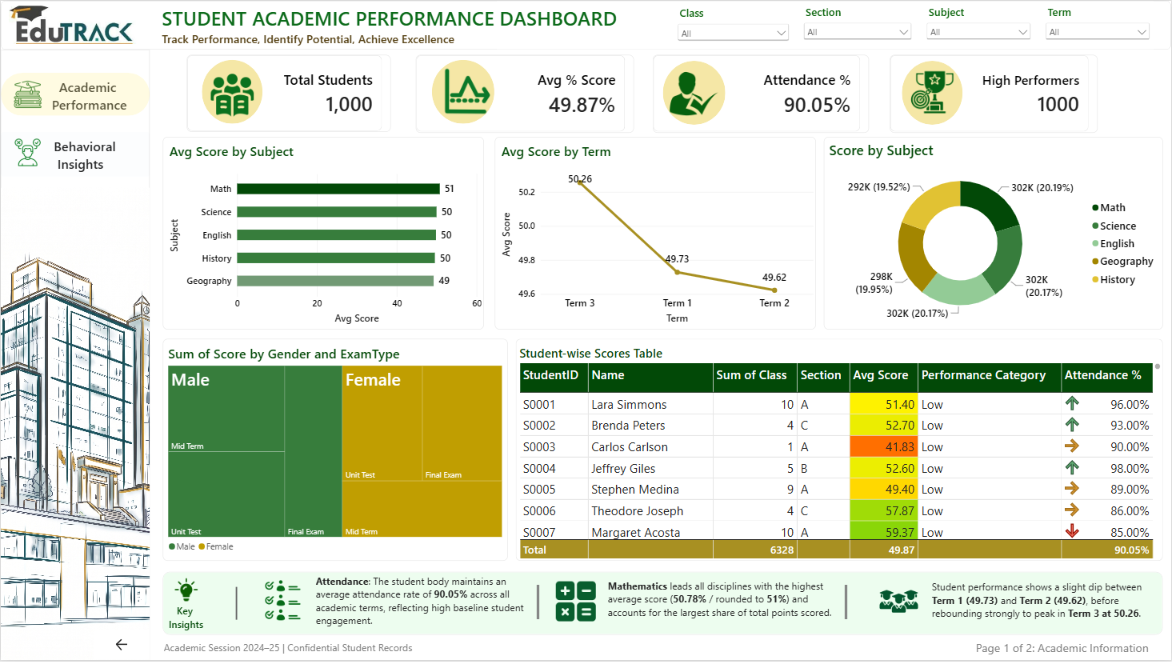

What the dashboard file says about the page in this screenshot:
{"tool":"powerbi","page":{"name":"Academic_Information","canvas":[1920,1080],"ordinal":0},"visuals":[{"type":"group","id":"g1","title":"base","box":[0,0,1919.7,1080.3],"z":0},{"type":"slicer","fields":{"Values":["Students.Class"]},"box":[1104.5,7.6,192.4,62.1],"z":0,"group":"g5"},{"type":"image","box":[13.6,8.4,209.1,62.1],"z":0,"group":"g9"},{"type":"shape","box":[0,80.3,243.9,1000],"z":0,"group":"g17"},{"type":"group","id":"g2","title":"KPI 1","box":[304.9,88.5,334.4,126.2],"z":0,"group":"g13"},{"type":"cardVisual","fields":{"Data":["Measure Table.Total Students"]},"box":[304.9,88.5,334.4,126.2],"z":0,"group":"g2"},{"type":"cardVisual","fields":{"Data":["Measure Table.Avg % Score"]},"box":[680.3,88.5,357.4,127.9],"z":0,"group":"g6"},{"type":"cardVisual","fields":{"Data":["Measure Table.Attendance %"]},"box":[1068.8,88.5,354.1,127.9],"z":0,"group":"g10"},{"type":"cardVisual","fields":{"Data":["Measure Table.High Performers"]},"box":[1457.4,88.5,341,127.9],"z":0,"group":"g14"},{"type":"group","id":"g3","title":"Group 1","box":[21.2,125.8,201.5,57.6],"z":0,"group":"g11"},{"type":"image","box":[21.2,125.8,45.5,54.5],"z":0,"group":"g3"},{"type":"image","box":[21.2,221.3,45.5,54.5],"z":0,"group":"g7"},{"type":"group","id":"g4","title":"Group 2","box":[429.5,939.4,465.6,91.8],"z":0,"group":"g16"},{"type":"image","box":[285.2,942.6,37.7,45.9],"z":0,"group":"g15"},{"type":"image","box":[429.5,949.2,65.6,67.2],"z":0,"group":"g4"},{"type":"image","box":[909.8,949.8,65.6,67.2],"z":0,"group":"g8"},{"type":"image","box":[1439.3,950.8,65.6,67.2],"z":0,"group":"g12"},{"type":"actionButton","box":[0,1027.9,83.6,52.5],"z":0,"group":"g1"},{"type":"shape","box":[0,0,1919.7,80.3],"z":1000,"group":"g1"},{"type":"textbox","box":[265.1,6.1,772.7,56.1],"z":1000,"group":"g9"},{"type":"group","id":"g5","title":"slicer","box":[1104.5,6.1,783.3,63.6],"z":1000},{"type":"slicer","fields":{"Values":["Students.Section"]},"box":[1311.6,6.1,186.4,62.1],"z":1000,"group":"g5"},{"type":"group","id":"g6","title":"KPI 2","box":[680.3,88.5,357.4,127.9],"z":1000,"group":"g13"},{"type":"shape","box":[707.2,96.7,102.8,104.9],"z":1000,"group":"g6"},{"type":"shape","box":[329.6,97.5,99.7,104.9],"z":1000,"group":"g2"},{"type":"shape","box":[1084.6,98.3,102.8,104.9],"z":1000,"group":"g10"},{"type":"shape","box":[1476.8,99.1,99.8,104.9],"z":1000,"group":"g14"},{"type":"textbox","box":[83.3,125.8,139.4,57.6],"z":1000,"group":"g3"},{"type":"group","id":"g7","title":"Group 1","box":[21.2,221.3,204.5,95.5],"z":1000,"group":"g11"},{"type":"textbox","box":[86.7,223.6,139.4,93.9],"z":1000,"group":"g7"},{"type":"image","title":"pic","box":[0,306.1,243.9,774.2],"z":1000,"group":"g17"},{"type":"group","id":"g8","title":"Group 2","box":[909.8,938.8,490.4,102],"z":1000,"group":"g16"},{"type":"textbox","box":[516.4,939.4,372.1,86.9],"z":1000,"group":"g4"},{"type":"textbox","box":[995.3,947.4,370.5,93.4],"z":1000,"group":"g8"},{"type":"textbox","box":[1525.6,949.2,372.1,86.9],"z":1000,"group":"g12"},{"type":"textbox","box":[275.4,988.5,85.2,50.8],"z":1000,"group":"g15"},{"type":"group","id":"g9","title":"header section","box":[13.6,6.1,1024.2,74.2],"z":2000},{"type":"slicer","fields":{"Values":["Scores.Subject"]},"box":[1512.6,6.1,180.3,62.1],"z":2000,"group":"g5"},{"type":"textbox","box":[265.1,48.5,525.8,31.8],"z":2000,"group":"g9"},{"type":"group","id":"g10","title":"KPI 3","box":[1068.8,88.5,354.1,127.9],"z":2000,"group":"g13"},{"type":"image","box":[725.6,110.6,77.5,77],"z":2000,"group":"g6"},{"type":"image","box":[1479.9,112.2,92.2,77],"z":2000,"group":"g14"},{"type":"image","box":[1091.2,113.9,88.5,78.7],"z":2000,"group":"g10"},{"type":"image","box":[344.9,118.8,70.6,73.8],"z":2000,"group":"g2"},{"type":"group","id":"g11","title":"pages","box":[21.2,125.8,204.5,190.9],"z":2000,"group":"g17"},{"type":"textbox","box":[1378.9,938.8,21.3,91.8],"z":2000,"group":"g8"},{"type":"textbox","box":[873.8,939.4,21.3,91.8],"z":2000,"group":"g4"},{"type":"textbox","box":[380.3,944.2,16.4,82],"z":2000,"group":"g15"},{"type":"group","id":"g12","title":"Group 2","box":[1439.3,949.2,458.5,86.9],"z":2000,"group":"g16"},{"type":"slicer","fields":{"Values":["Scores.Term"]},"box":[1707.5,6.1,180.3,62.1],"z":3000,"group":"g5"},{"type":"group","id":"g13","title":"KPIs","box":[304.9,88.5,1493.4,127.9],"z":3000},{"type":"group","id":"g14","title":"KPI 4","box":[1457.4,88.5,341,127.9],"z":3000,"group":"g13"},{"type":"actionButton","box":[0,118,244.3,70.5],"z":3000,"group":"g17"},{"type":"group","id":"g15","title":"Group 3","box":[275.4,942.6,121.3,96.7],"z":3000,"group":"g16"},{"type":"actionButton","box":[0,214.8,244.3,73.8],"z":4000,"group":"g17"},{"type":"clusteredBarChart","fields":{"Category":["Scores.Subject"],"Y":["Measure Table.Avg Score"]},"box":[265.6,223,526.2,316.4],"z":4000},{"type":"actionButton","box":[152.5,1031.1,91.8,49.2],"z":4500,"group":"g17"},{"type":"lineChart","fields":{"Category":["Scores.Term"],"Y":["Measure Table.Avg Score"]},"box":[809.8,223,526.2,316.4],"z":5000},{"type":"donutChart","title":"Score by Subject","fields":{"Category":["Scores.Subject"],"Y":["Sum(Scores.Score)"]},"box":[1349.2,223,555.7,316.4],"z":6000},{"type":"treemap","fields":{"Details":["Scores.ExamType"],"Group":["Students.Gender"],"Values":["Sum(Scores.Score)"]},"box":[265.6,554.1,565.6,363.9],"z":7000},{"type":"tableEx","title":"Student-wise Scores Table","fields":{"Values":["Students.StudentID","Students.Name","Sum(Students.Class)","Students.Section","Measure Table.Avg Score","Scores.Performance Category","Measure Table.Attendance %"]},"box":[844.3,554.1,1060.7,363.9],"z":8000},{"type":"shape","box":[265.6,936.1,1639.3,103.3],"z":9000},{"type":"textbox","box":[267.2,1049.2,439.3,31.1],"z":10000},{"type":"textbox","box":[1598.4,1047.5,300,32.8],"z":11000},{"type":"group","id":"g16","title":"Key insights","box":[275.4,938.8,1622.4,102],"z":12000},{"type":"group","id":"g17","title":"menu","box":[0,80.3,244.3,1000],"z":13000}]}

Visuals, with their boxes in screenshot pixels (x1, y1, x2, y2), scaled from the page's 1920x1080 canvas onto the 1172x662 screenshot:
"base" group: bbox=[0, 0, 1171, 661]
slicer - Students.Class: bbox=[674, 5, 792, 43]
image: bbox=[8, 5, 136, 43]
shape: bbox=[0, 49, 149, 661]
"KPI 1" group: bbox=[186, 54, 390, 132]
cardVisual - Measure Table.Total Students: bbox=[186, 54, 390, 132]
cardVisual - Measure Table.Avg % Score: bbox=[415, 54, 633, 133]
cardVisual - Measure Table.Attendance %: bbox=[652, 54, 869, 133]
cardVisual - Measure Table.High Performers: bbox=[890, 54, 1098, 133]
"Group 1" group: bbox=[13, 77, 136, 112]
image: bbox=[13, 77, 41, 111]
image: bbox=[13, 136, 41, 169]
"Group 2" group: bbox=[262, 576, 546, 632]
image: bbox=[174, 578, 197, 606]
image: bbox=[262, 582, 302, 623]
image: bbox=[555, 582, 595, 623]
image: bbox=[879, 583, 919, 624]
actionButton: bbox=[0, 630, 51, 661]
shape: bbox=[0, 0, 1171, 49]
textbox: bbox=[162, 4, 633, 38]
"slicer" group: bbox=[674, 4, 1152, 43]
slicer - Students.Section: bbox=[801, 4, 914, 42]
"KPI 2" group: bbox=[415, 54, 633, 133]
shape: bbox=[432, 59, 494, 124]
shape: bbox=[201, 60, 262, 124]
shape: bbox=[662, 60, 725, 125]
shape: bbox=[901, 61, 962, 125]
textbox: bbox=[51, 77, 136, 112]
"Group 1" group: bbox=[13, 136, 138, 194]
textbox: bbox=[53, 137, 138, 195]
"pic" image: bbox=[0, 188, 149, 661]
"Group 2" group: bbox=[555, 575, 855, 638]
textbox: bbox=[315, 576, 542, 629]
textbox: bbox=[608, 581, 834, 638]
textbox: bbox=[931, 582, 1158, 635]
textbox: bbox=[168, 606, 220, 637]
"header section" group: bbox=[8, 4, 633, 49]
slicer - Scores.Subject: bbox=[923, 4, 1033, 42]
textbox: bbox=[162, 30, 483, 49]
"KPI 3" group: bbox=[652, 54, 869, 133]
image: bbox=[443, 68, 490, 115]
image: bbox=[903, 69, 960, 116]
image: bbox=[666, 70, 720, 118]
image: bbox=[211, 73, 254, 118]
"pages" group: bbox=[13, 77, 138, 194]
textbox: bbox=[842, 575, 855, 632]
textbox: bbox=[533, 576, 546, 632]
textbox: bbox=[232, 579, 242, 629]
"Group 2" group: bbox=[879, 582, 1158, 635]
slicer - Scores.Term: bbox=[1042, 4, 1152, 42]
"KPIs" group: bbox=[186, 54, 1098, 133]
"KPI 4" group: bbox=[890, 54, 1098, 133]
actionButton: bbox=[0, 72, 149, 116]
"Group 3" group: bbox=[168, 578, 242, 637]
actionButton: bbox=[0, 132, 149, 177]
clusteredBarChart - Scores.Subject x Measure Table.Avg Score: bbox=[162, 137, 483, 331]
actionButton: bbox=[93, 632, 149, 661]
lineChart - Scores.Term x Measure Table.Avg Score: bbox=[494, 137, 816, 331]
"Score by Subject" donutChart: bbox=[824, 137, 1163, 331]
treemap - Scores.ExamType x Students.Gender: bbox=[162, 340, 507, 563]
"Student-wise Scores Table" tableEx: bbox=[515, 340, 1163, 563]
shape: bbox=[162, 574, 1163, 637]
textbox: bbox=[163, 643, 431, 661]
textbox: bbox=[976, 642, 1159, 661]
"Key insights" group: bbox=[168, 575, 1158, 638]
"menu" group: bbox=[0, 49, 149, 661]
